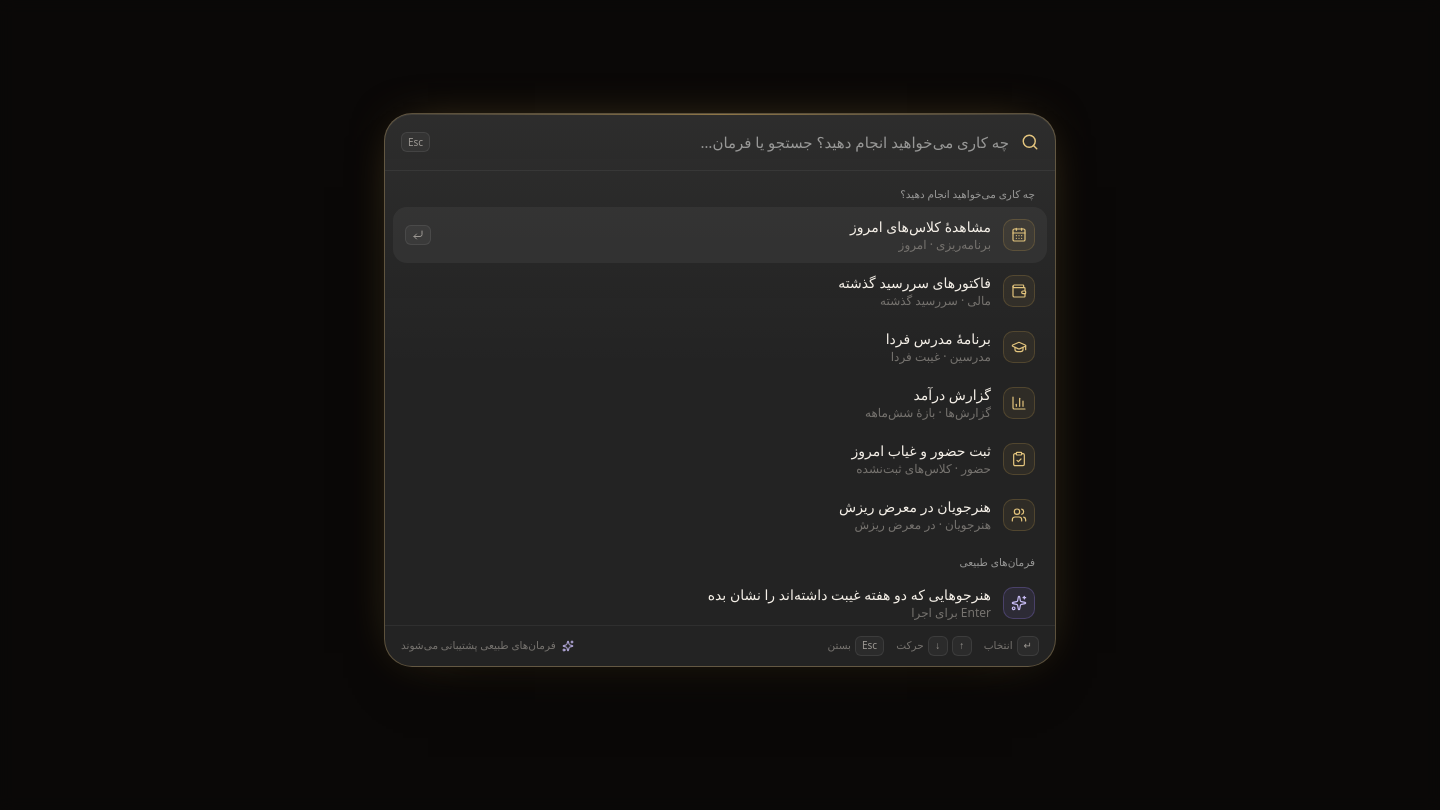
CommandPalette search failure disclosure (I15-A1) › still renders records for a successful search
Type "سارا محمدی" into the field with placeholder "چه کاری می‌خواهید انجام دهید؟ جستجو یا فرمان…" at x=726, y=142, box x1=442 y1=114 x2=1009 y2=170
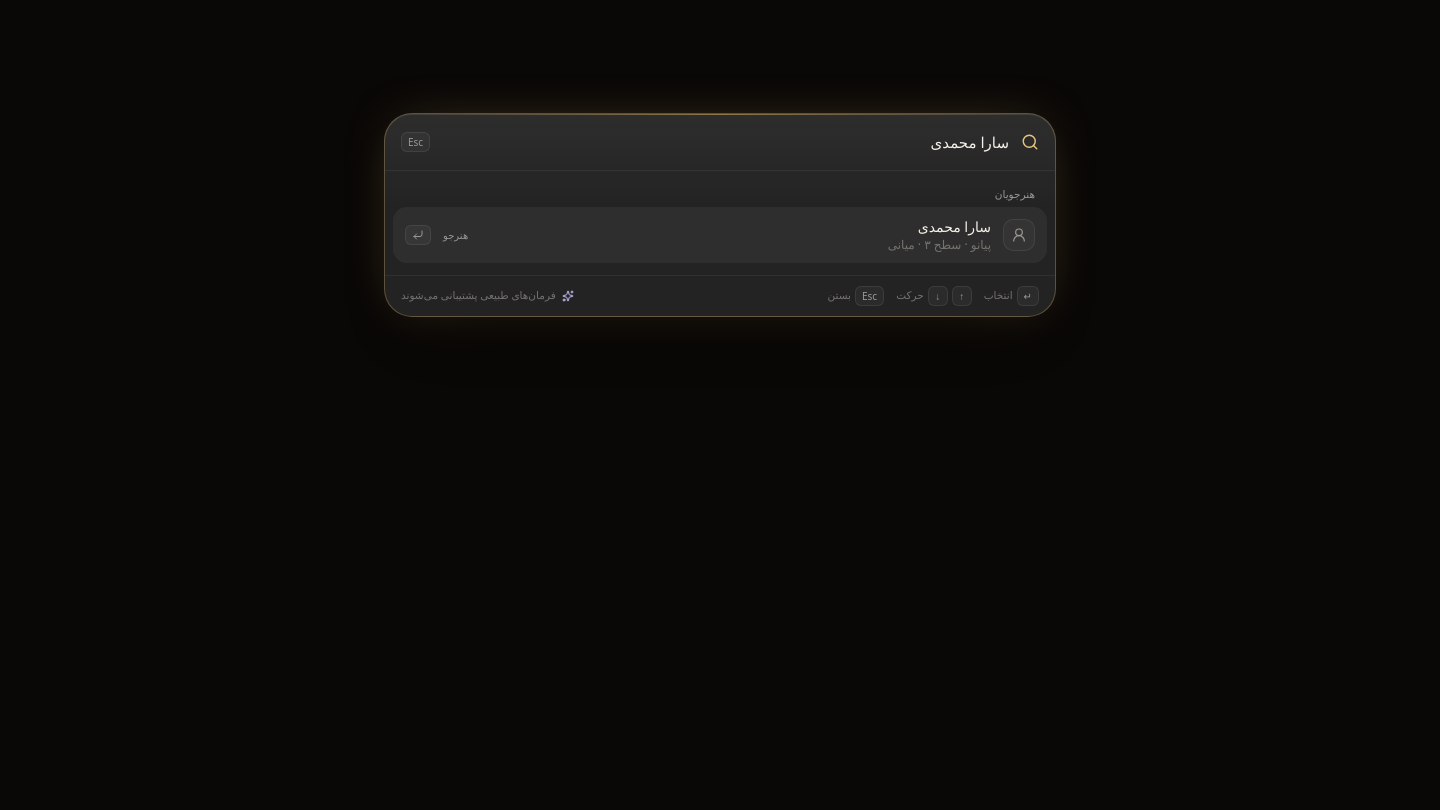
expect the text "سارا محمدی" is shown: met, box x1=918 y1=217 x2=991 y2=236
